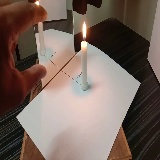fire: (83, 20, 86, 43)
